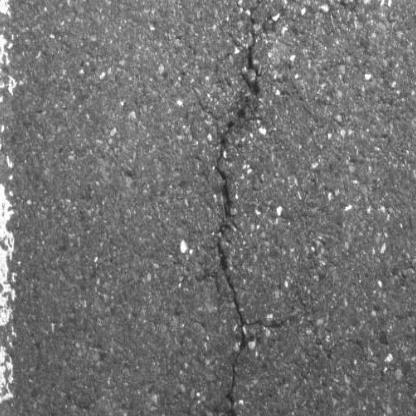Cracks: (214, 8, 289, 416)
